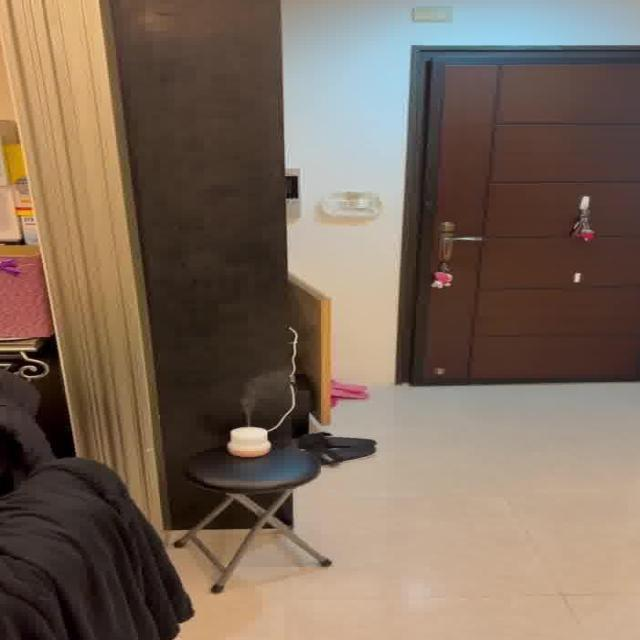fire: (236, 368, 286, 413)
